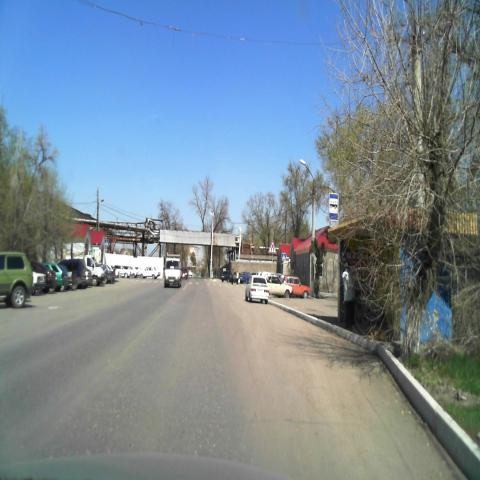1_20: (269, 241, 276, 255)
